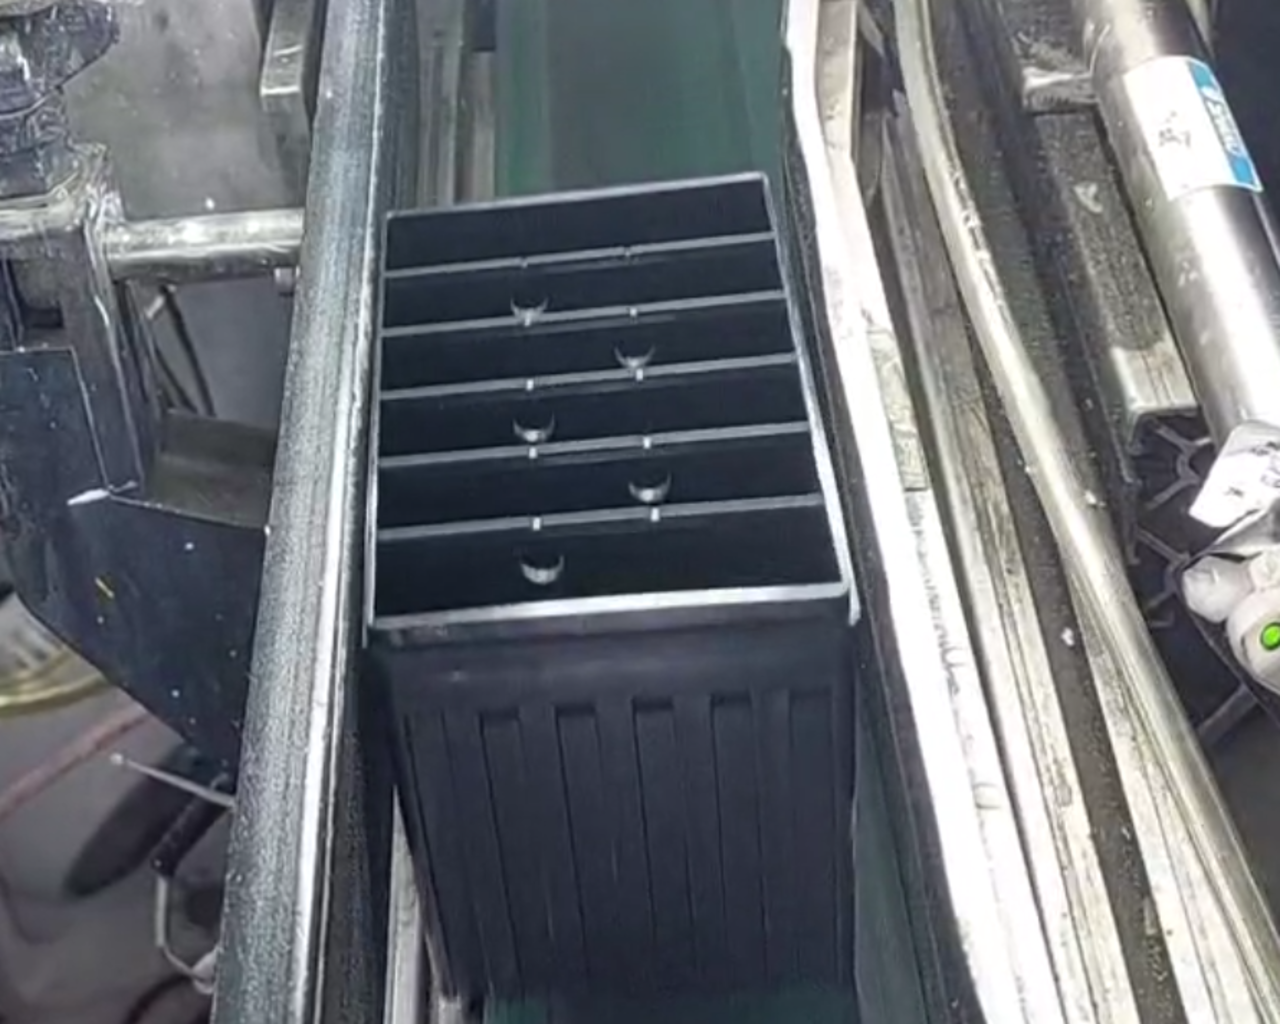box: (346, 159, 872, 664)
round: (508, 537, 578, 592), (616, 451, 681, 509), (604, 319, 666, 371), (502, 396, 565, 446), (503, 280, 554, 319)
